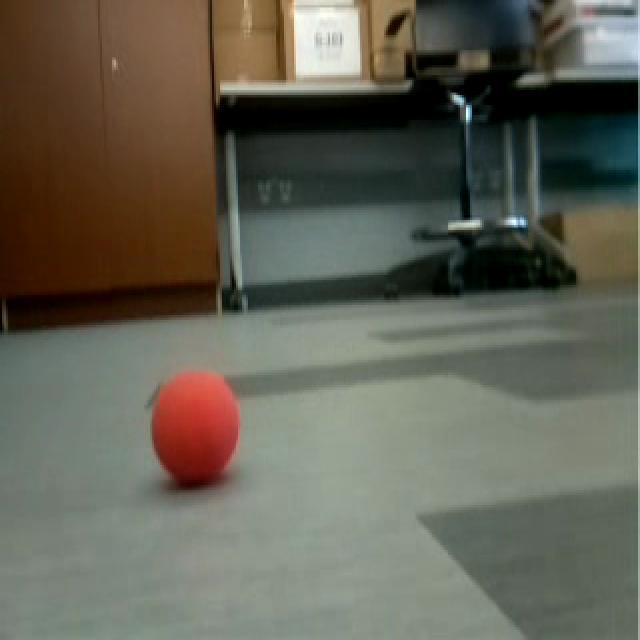oball: (154, 369, 240, 488)
